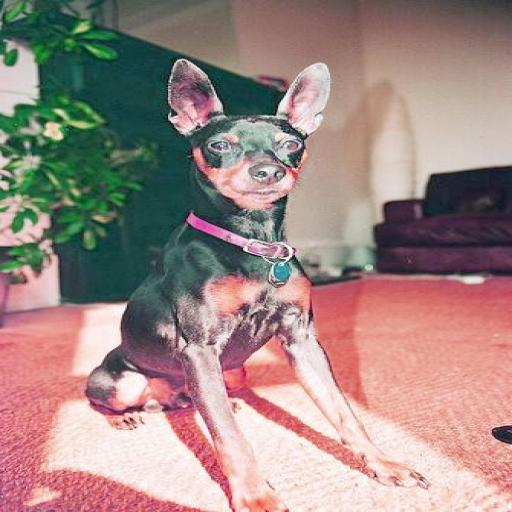dog_face: (162, 56, 339, 217)
